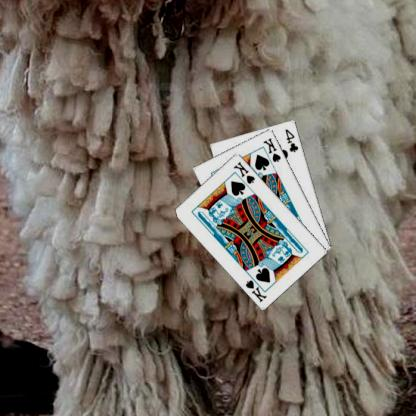4C: (284, 126, 302, 153)
KS: (244, 272, 270, 304), (233, 158, 258, 184), (262, 136, 284, 164)
